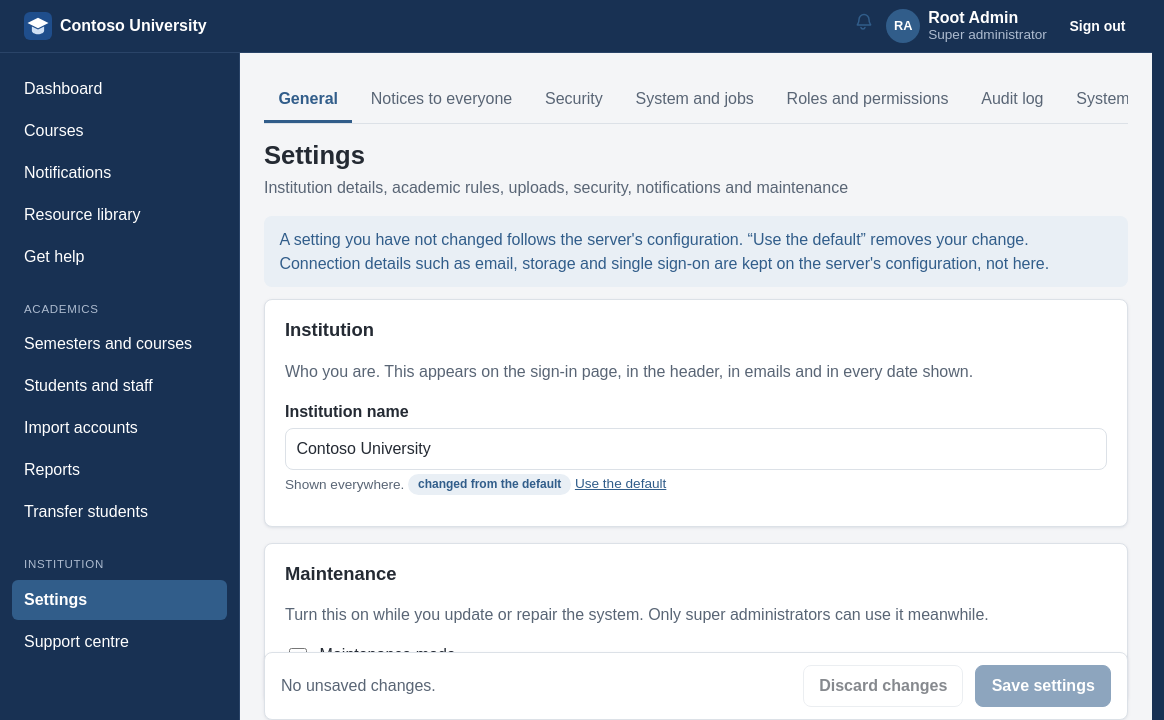
settings › shows the server’s complaint next to the setting it is about
This screenshot has width=1164, height=720.
Type "!" into the field labelled "Institution name" at (696, 449), box [285,428,1107,470]
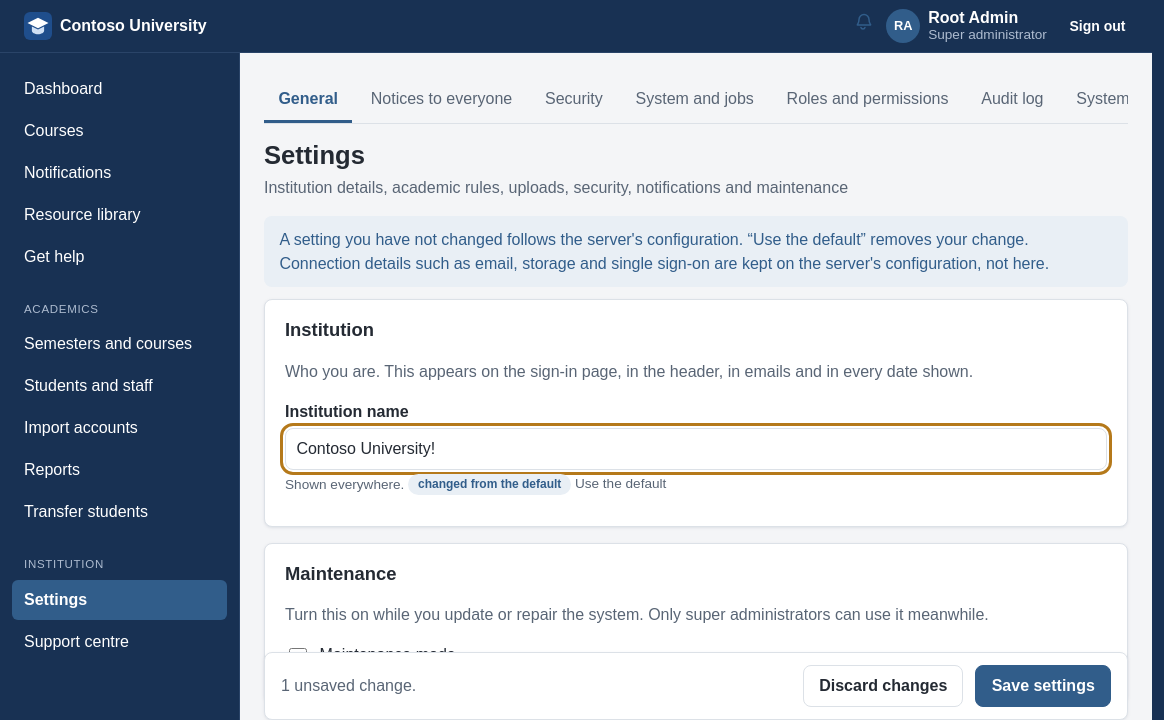
Click the button "Save settings" at (1043, 686), box [976,665,1111,707]
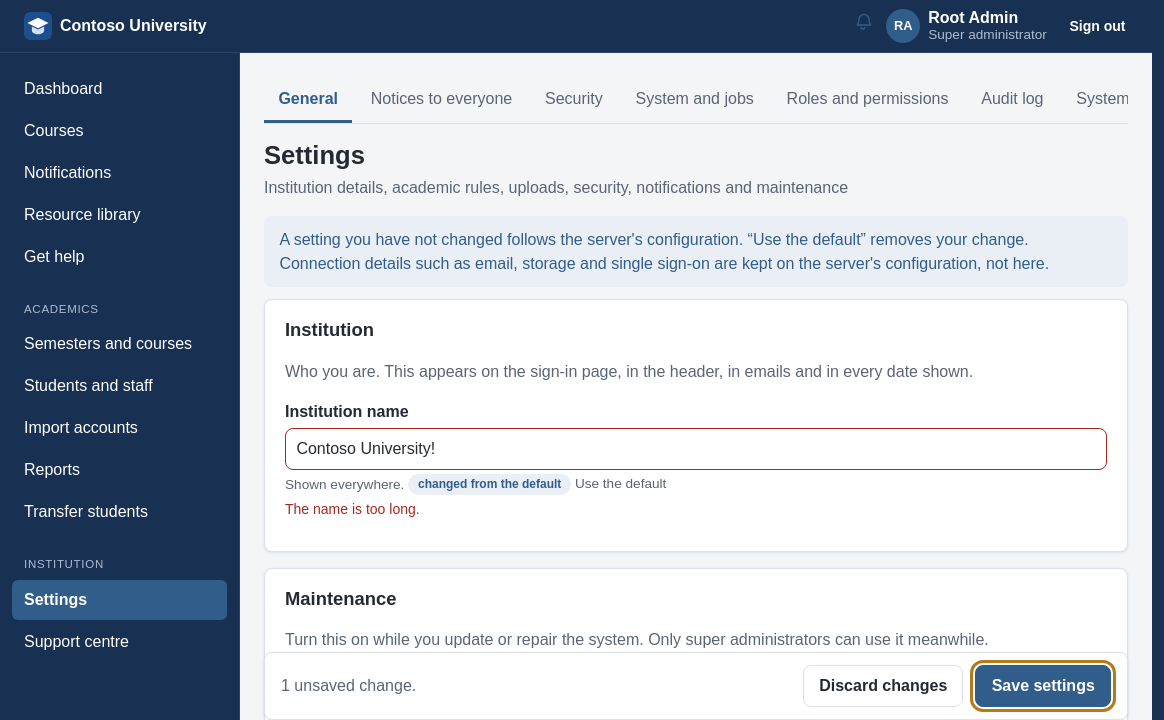
expect the text "The name is too long." is shown: met, box [285,501,420,517]
